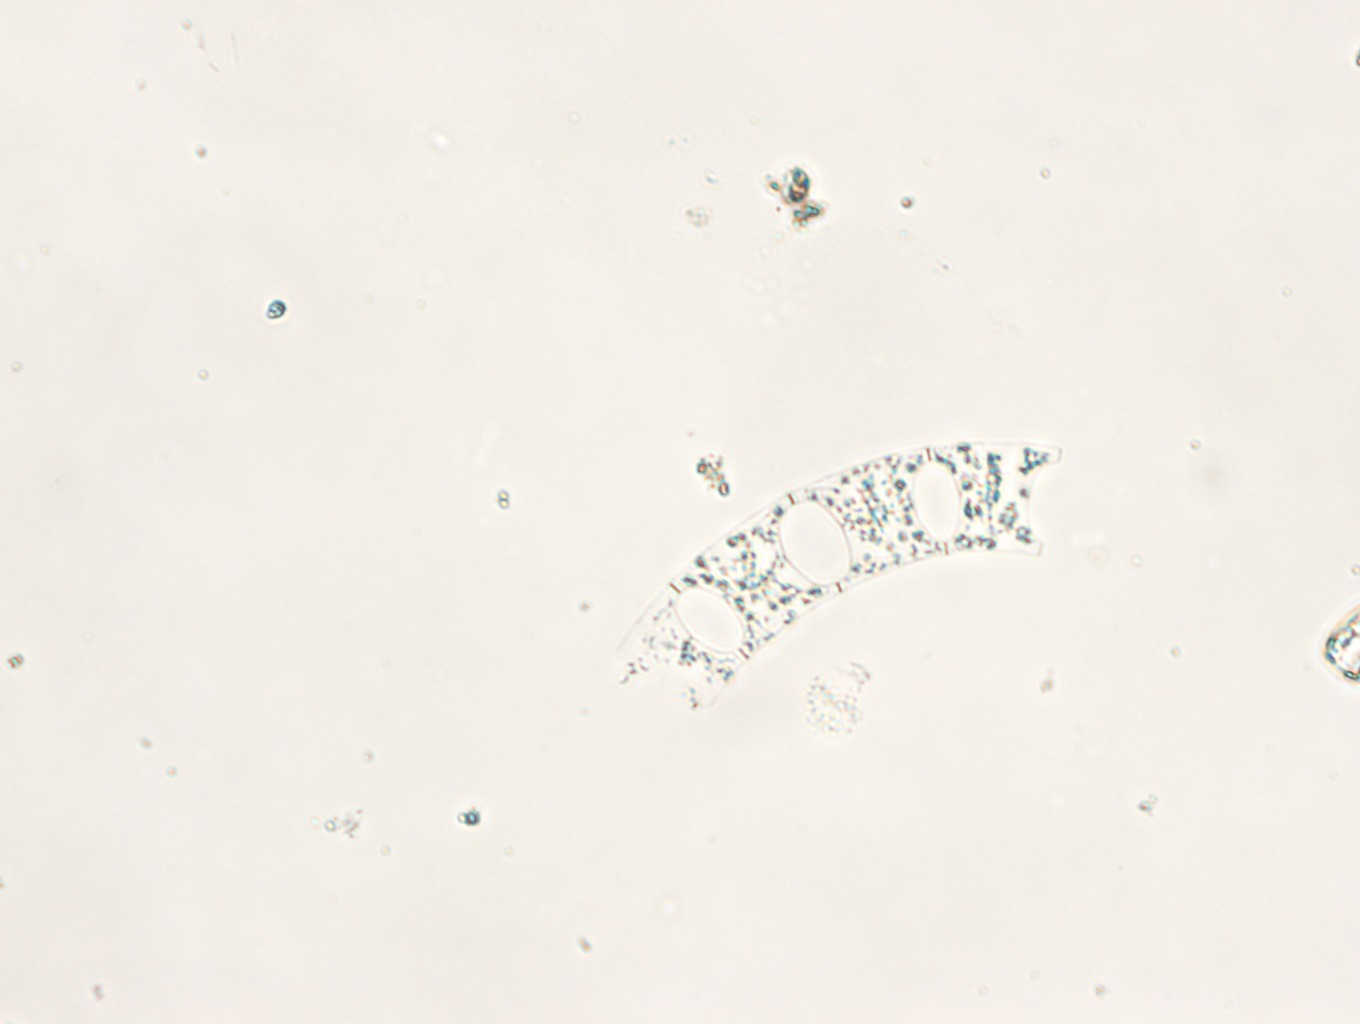eucampia: (609, 443, 1063, 723)
